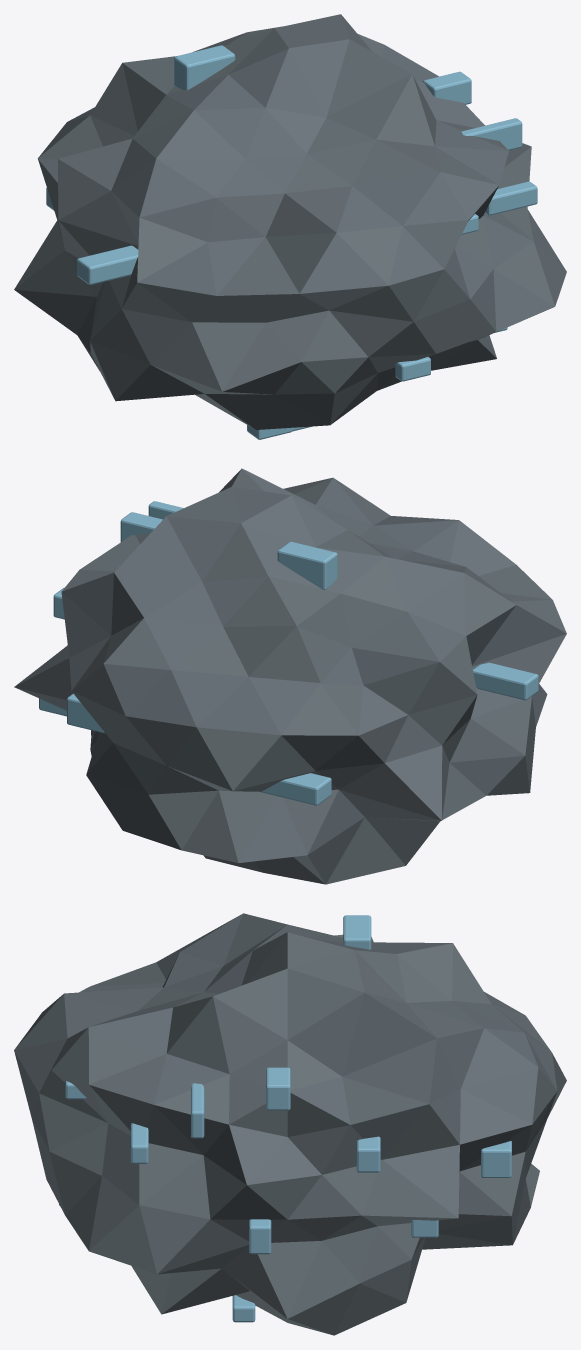
Rendered from ore_pressure_steel.glb.
The picture shows the model from 3 angles, top to bottom: view 1: azimuth 30°, elevation 25°; view 2: azimuth 150°, elevation 25°; view 3: azimuth 270°, elevation 25°; orthographic projection. The views are drawn at different scales.
Visible parts, largest first — view 1: deepforge_dark.005, ore_pressure_steel_vein; view 2: deepforge_dark.005, ore_pressure_steel_vein; view 3: deepforge_dark.005, ore_pressure_steel_vein.
Boxes of the visible parts, x1,y1,x2,y2 form: deepforge_dark.005: [14, 14, 566, 429]; ore_pressure_steel_vein: [46, 45, 537, 439]; deepforge_dark.005: [14, 468, 566, 884]; ore_pressure_steel_vein: [39, 501, 538, 805]; deepforge_dark.005: [14, 913, 566, 1335]; ore_pressure_steel_vein: [59, 915, 511, 1322].
Size of the model in its own units: 46.29 by 34.82 by 48.22.
